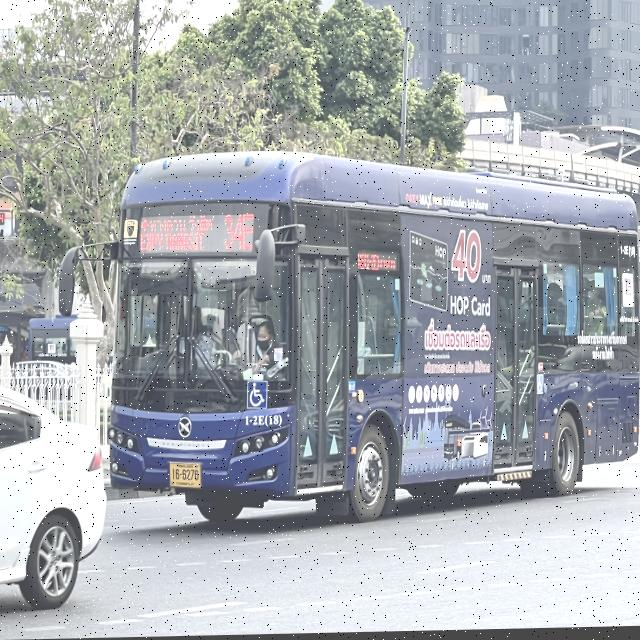Bus-Line-Number: (222, 209, 258, 261)
Destination-Sign-Normal: (136, 212, 216, 258)
TSB-Bus: (100, 147, 640, 530)
